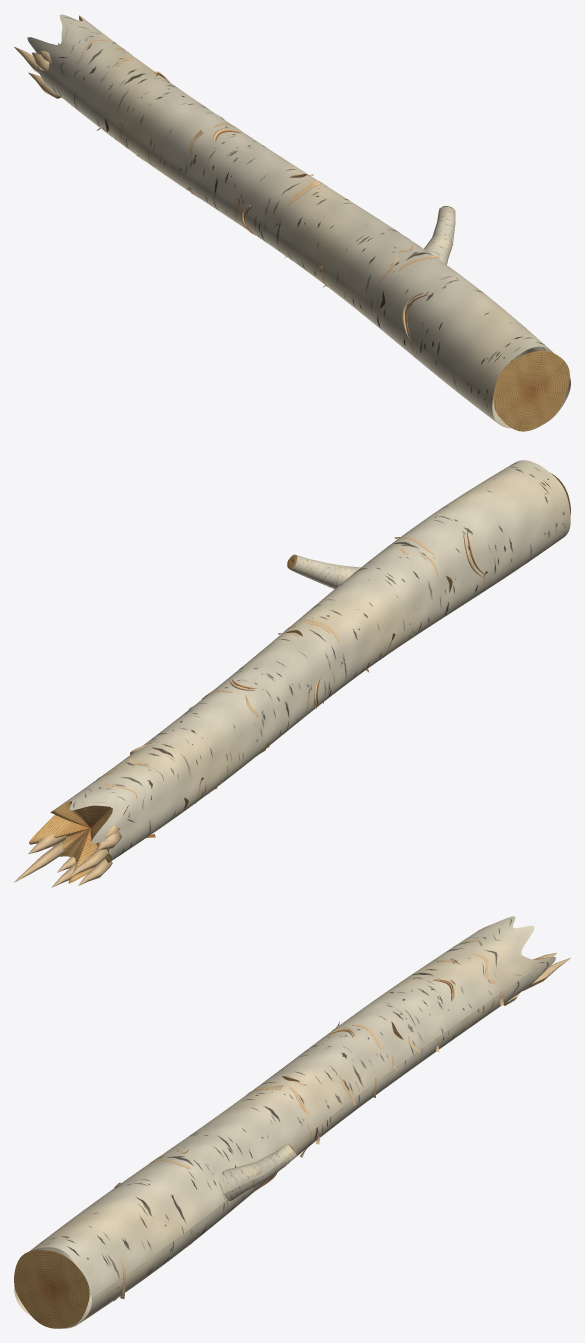
File: SM_ValleyBirchBalanceLog.fbx
The picture shows the model from 3 angles, top to bottom: view 1: azimuth 30°, elevation 25°; view 2: azimuth 150°, elevation 25°; view 3: azimuth 330°, elevation 25°; orthographic projection.
Parts seen in each view (by area): view 1: SM_ValleyBirchBalanceLog; view 2: SM_ValleyBirchBalanceLog; view 3: SM_ValleyBirchBalanceLog.
Boxes of the visible parts, x1=… form: SM_ValleyBirchBalanceLog: x1=14, y1=14, x2=570, y2=431; SM_ValleyBirchBalanceLog: x1=14, y1=460, x2=570, y2=887; SM_ValleyBirchBalanceLog: x1=14, y1=916, x2=570, y2=1328.
Size of what is drawn, in the model's own units: 74.43 by 52 by 510.
Materials: 1 (1 with a texture image).
